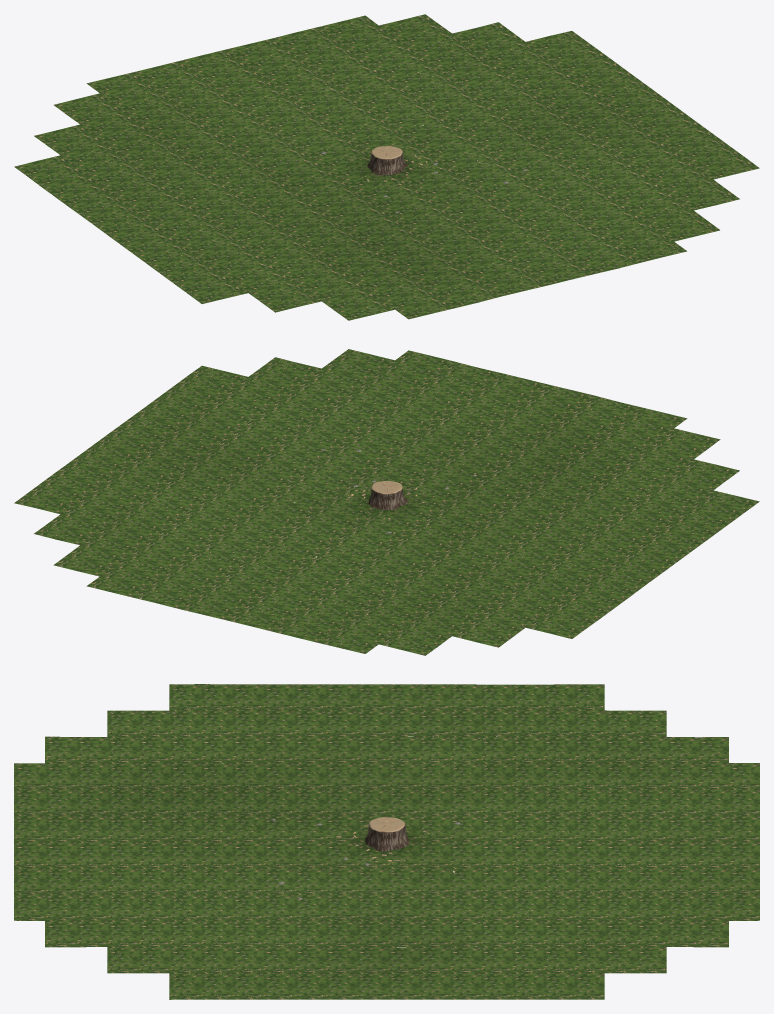
File: stump.gltf
3 renders of one model, top to bottom at view 1: azimuth 30°, elevation 25°; view 2: azimuth 150°, elevation 25°; view 3: azimuth 270°, elevation 25°, orthographic. The views are drawn at different scales.
Visible parts, largest first — view 1: stump_mesh; view 2: stump_mesh; view 3: stump_mesh.
Boxes of the visible parts, x1,y1,x2,y2 form: stump_mesh: [14, 14, 759, 320]; stump_mesh: [14, 349, 759, 655]; stump_mesh: [14, 684, 759, 999].
Size of the model in its own units: 12 by 0.37 by 12.
1 material, 1 textured.
